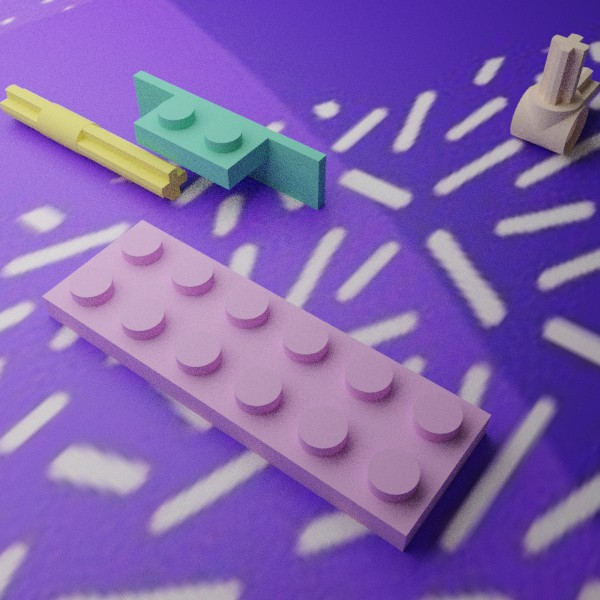lego: (42, 219, 491, 552), (133, 70, 326, 210), (0, 84, 186, 200), (510, 33, 599, 155)
